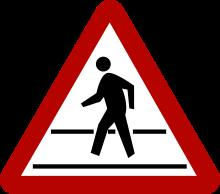Pedestrian Crossing: (6, 8, 214, 181)
